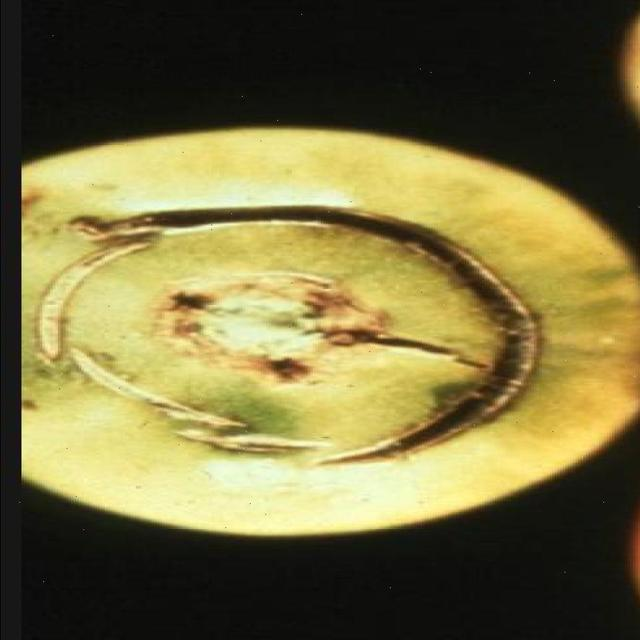Cracking Fruit: (58, 32, 335, 295)
